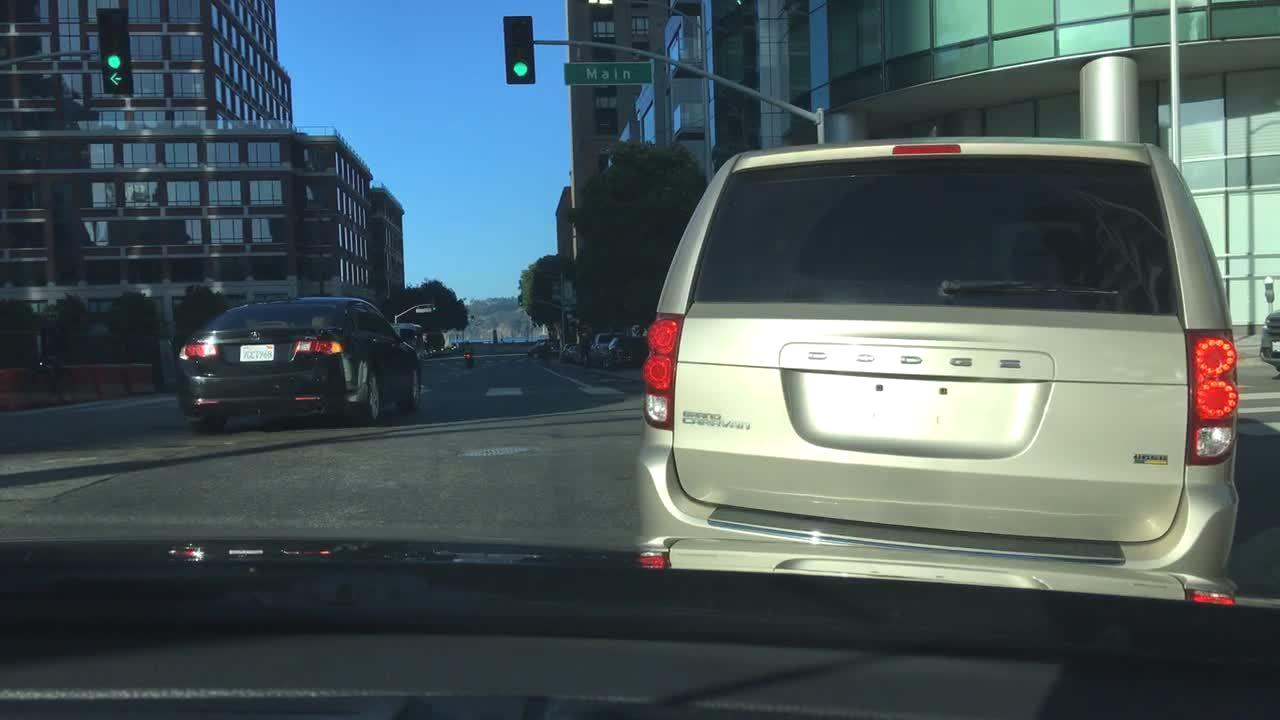dodge: (792, 329, 1058, 382)
